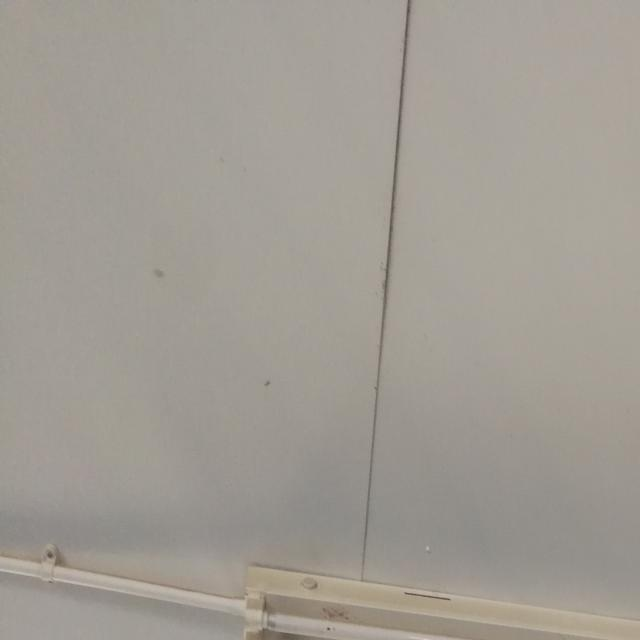fluorescent tube: (235, 542, 640, 640)
